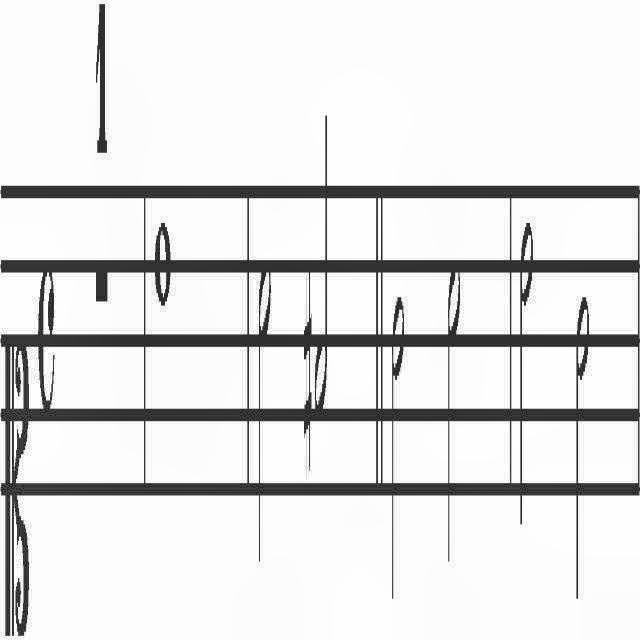Diez: (302, 261, 314, 471)
Full-note: (154, 209, 170, 307)
Half-note: (256, 252, 272, 580), (390, 288, 406, 604), (518, 214, 534, 530), (574, 288, 590, 604), (446, 258, 462, 570), (314, 106, 330, 406)
